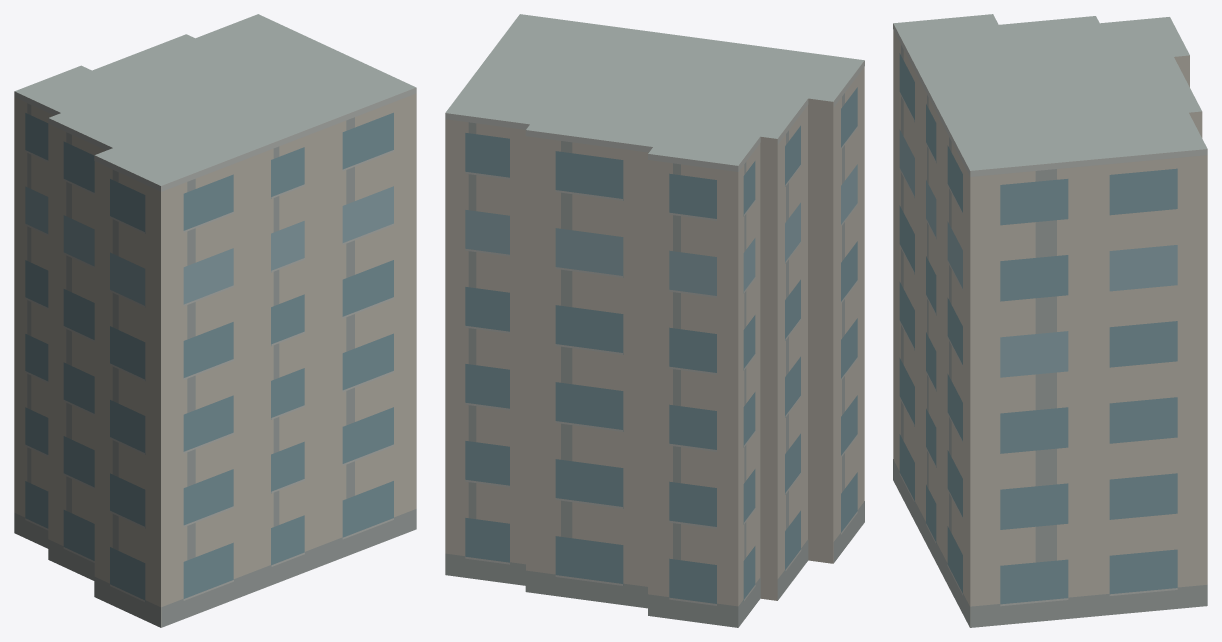
File: survey-upis-32614904.glb
3 renders of one model, left to right at view 1: azimuth 30°, elevation 25°; view 2: azimuth 150°, elevation 25°; view 3: azimuth 270°, elevation 25°, orthographic. The views are drawn at different scales.
Visible parts, largest first — view 1: survey-upis-32614904.tmp; view 2: survey-upis-32614904.tmp; view 3: survey-upis-32614904.tmp.
Part boxes in pixels (x1,y1,x2,y2): survey-upis-32614904.tmp: (14, 14, 416, 627); survey-upis-32614904.tmp: (445, 14, 864, 627); survey-upis-32614904.tmp: (893, 14, 1207, 627).
Size of the model in its own units: 13.49 by 18.3 by 11.42.
